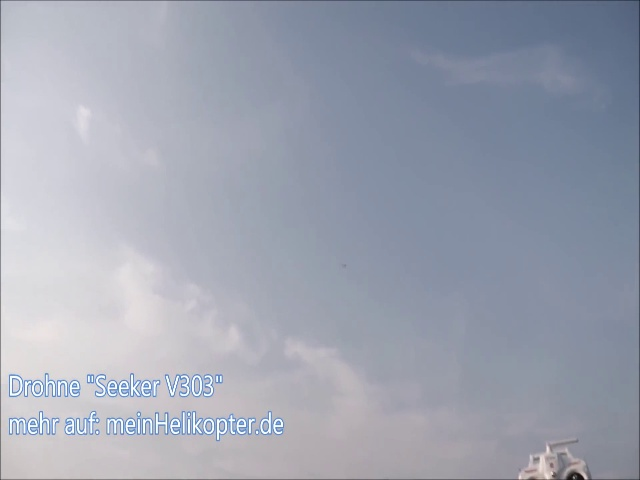drone: (339, 260, 349, 269)
